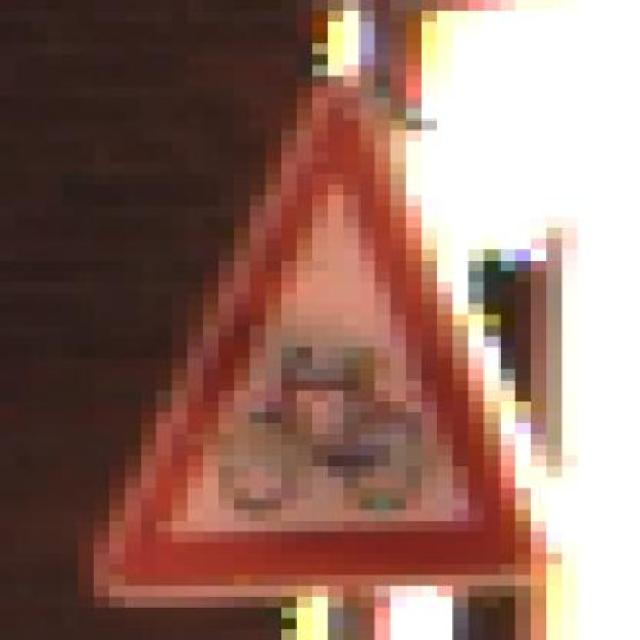CYCLE ROUTE AHEAD WARNING: (62, 65, 578, 608)
